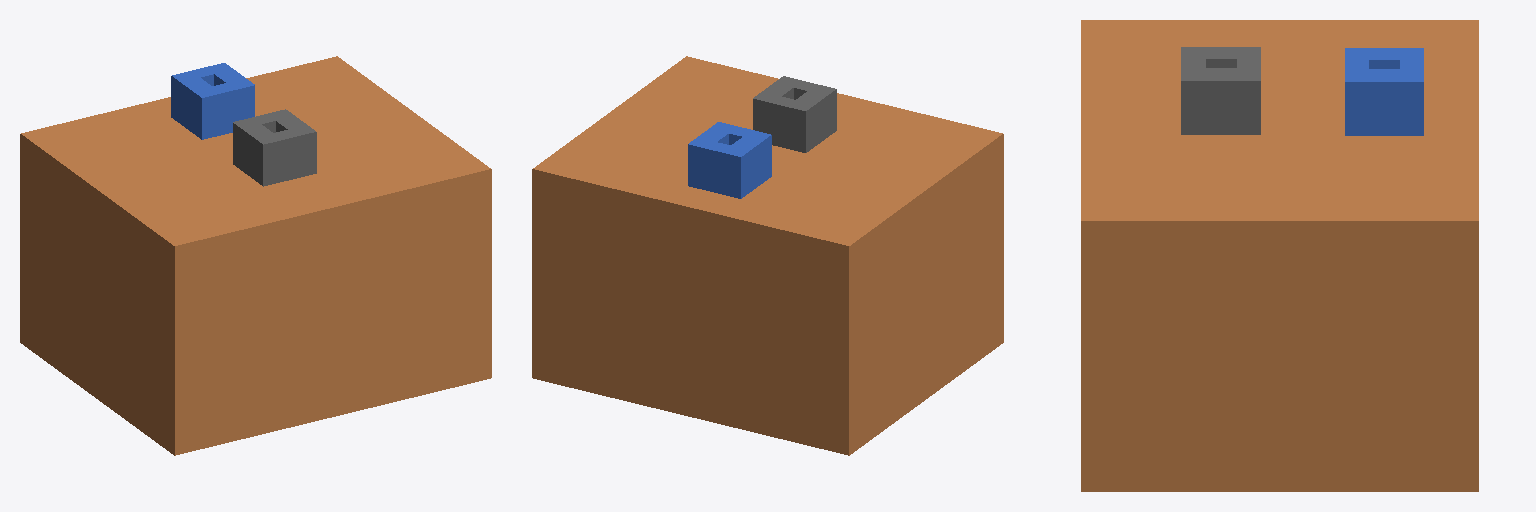
URDF robot description (peg_in_hole_fixtured_scene_0000_peg0017_tol00):
<?xml version="1.0"?>
<robot name="peg_in_hole_fixtured_scene_0000_peg0017_tol00">
  <material name="wood"><color rgba="0.82 0.56 0.35 1.0"/></material>
  <material name="start_fix"><color rgba="0.30 0.50 0.85 1.0"/></material>
  <material name="goal_fix"><color rgba="0.4706 0.4706 0.4706 1.0"/></material>
  <link name="box">
    <visual>
      <origin xyz="0.000000 0.000000 0.000000" rpy="0 0 0"/>
      <geometry><box size="0.475000 0.400000 0.300000"/></geometry>
      <material name="wood"/>
    </visual>
    <collision>
      <origin xyz="0.000000 0.000000 0.000000" rpy="0 0 0"/>
      <geometry><box size="0.475000 0.400000 0.300000"/></geometry>
    </collision>
    <visual>
      <origin xyz="-0.003345 0.104822 0.155000" rpy="0 0 0"/>
      <geometry><box size="0.080000 0.080000 0.010000"/></geometry>
      <material name="start_fix"/>
    </visual>
    <collision>
      <origin xyz="-0.003345 0.104822 0.155000" rpy="0 0 0"/>
      <geometry><box size="0.080000 0.080000 0.010000"/></geometry>
    </collision>
    <visual>
      <origin xyz="0.021905 0.104822 0.185000" rpy="0 0 0"/>
      <geometry><box size="0.029500 0.080000 0.050000"/></geometry>
      <material name="start_fix"/>
    </visual>
    <collision>
      <origin xyz="0.021905 0.104822 0.185000" rpy="0 0 0"/>
      <geometry><box size="0.029500 0.080000 0.050000"/></geometry>
    </collision>
    <visual>
      <origin xyz="-0.028595 0.104822 0.185000" rpy="0 0 0"/>
      <geometry><box size="0.029500 0.080000 0.050000"/></geometry>
      <material name="start_fix"/>
    </visual>
    <collision>
      <origin xyz="-0.028595 0.104822 0.185000" rpy="0 0 0"/>
      <geometry><box size="0.029500 0.080000 0.050000"/></geometry>
    </collision>
    <visual>
      <origin xyz="-0.003345 0.132572 0.185000" rpy="0 0 0"/>
      <geometry><box size="0.021000 0.024500 0.050000"/></geometry>
      <material name="start_fix"/>
    </visual>
    <collision>
      <origin xyz="-0.003345 0.132572 0.185000" rpy="0 0 0"/>
      <geometry><box size="0.021000 0.024500 0.050000"/></geometry>
    </collision>
    <visual>
      <origin xyz="-0.003345 0.077072 0.185000" rpy="0 0 0"/>
      <geometry><box size="0.021000 0.024500 0.050000"/></geometry>
      <material name="start_fix"/>
    </visual>
    <collision>
      <origin xyz="-0.003345 0.077072 0.185000" rpy="0 0 0"/>
      <geometry><box size="0.021000 0.024500 0.050000"/></geometry>
    </collision>
    <visual>
      <origin xyz="-0.006004 -0.058878 0.155000" rpy="0 0 0"/>
      <geometry><box size="0.080000 0.080000 0.010000"/></geometry>
      <material name="goal_fix"/>
    </visual>
    <collision>
      <origin xyz="-0.006004 -0.058878 0.155000" rpy="0 0 0"/>
      <geometry><box size="0.080000 0.080000 0.010000"/></geometry>
    </collision>
    <visual>
      <origin xyz="0.019300 -0.058878 0.185000" rpy="0 0 0"/>
      <geometry><box size="0.029393 0.080000 0.050000"/></geometry>
      <material name="goal_fix"/>
    </visual>
    <collision>
      <origin xyz="0.019300 -0.058878 0.185000" rpy="0 0 0"/>
      <geometry><box size="0.029393 0.080000 0.050000"/></geometry>
    </collision>
    <visual>
      <origin xyz="-0.031307 -0.058878 0.185000" rpy="0 0 0"/>
      <geometry><box size="0.029393 0.080000 0.050000"/></geometry>
      <material name="goal_fix"/>
    </visual>
    <collision>
      <origin xyz="-0.031307 -0.058878 0.185000" rpy="0 0 0"/>
      <geometry><box size="0.029393 0.080000 0.050000"/></geometry>
    </collision>
    <visual>
      <origin xyz="-0.006004 -0.031074 0.185000" rpy="0 0 0"/>
      <geometry><box size="0.021214 0.024393 0.050000"/></geometry>
      <material name="goal_fix"/>
    </visual>
    <collision>
      <origin xyz="-0.006004 -0.031074 0.185000" rpy="0 0 0"/>
      <geometry><box size="0.021214 0.024393 0.050000"/></geometry>
    </collision>
    <visual>
      <origin xyz="-0.006004 -0.086681 0.185000" rpy="0 0 0"/>
      <geometry><box size="0.021214 0.024393 0.050000"/></geometry>
      <material name="goal_fix"/>
    </visual>
    <collision>
      <origin xyz="-0.006004 -0.086681 0.185000" rpy="0 0 0"/>
      <geometry><box size="0.021214 0.024393 0.050000"/></geometry>
    </collision>
    <inertial>
      <mass value="500"/>
      <friction value="1.0"/>
      <inertia ixx="1000.0" ixy="0.0" ixz="0.0" iyy="1000.0" iyz="0.0" izz="1000.0"/>
    </inertial>
  </link>
</robot>

--- Facts derived from the render (not from the file) ---
Views: 3 orthographic renders of the robot side by side, from view 1: azimuth 30°, elevation 25°; view 2: azimuth 150°, elevation 25°; view 3: azimuth 270°, elevation 25°.
Robot: peg_in_hole_fixtured_scene_0000_peg0017_tol00 — 1 links, 0 joints (none); root link box; default pose: all joints at 0.
Visible links, largest first — view 1: box; view 2: box; view 3: box.
Boxes of the visible links, box(x1,y1,x2,y2) form: box: box(20, 56, 491, 455); box: box(532, 56, 1003, 455); box: box(1081, 20, 1478, 491).
Size in the robot's own frame: 0.475 by 0.4 by 0.36 metres.
Geometry: primitives only (box / cylinder / sphere), no mesh files.
